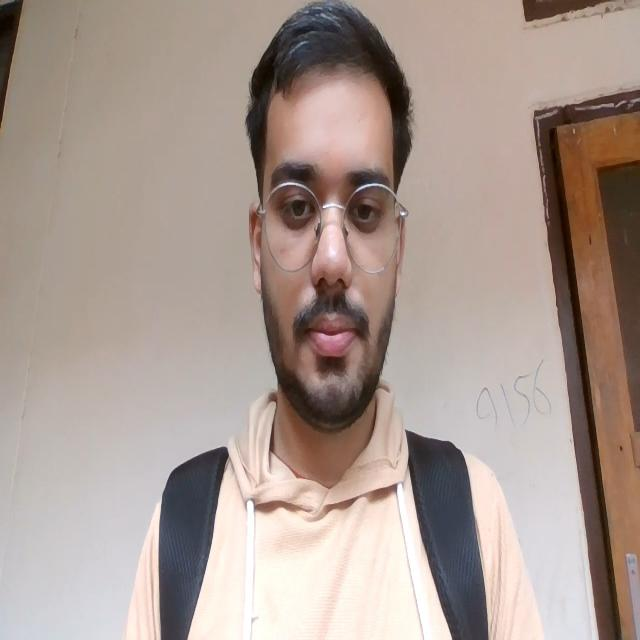awake: (262, 154, 387, 363)
